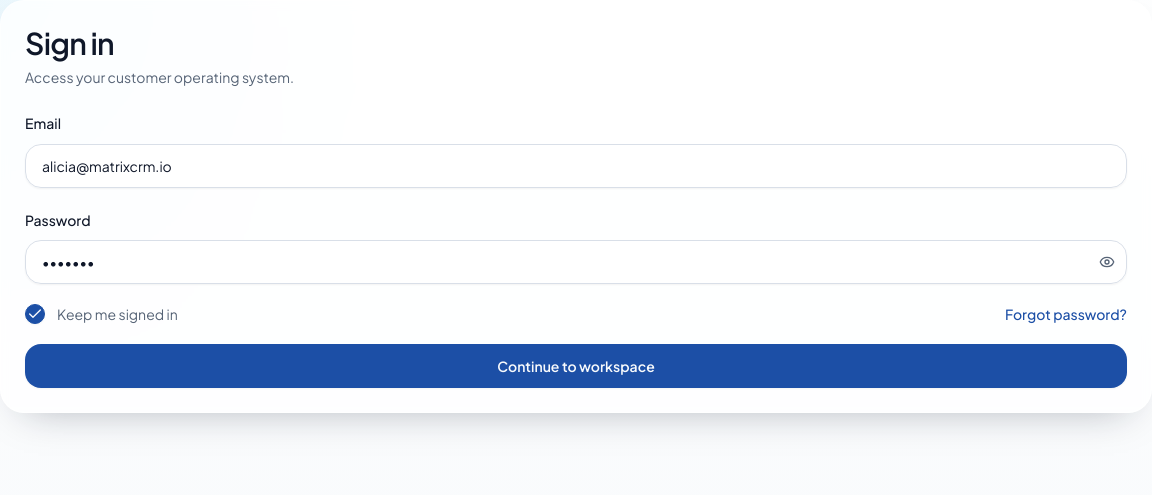
LoginForm › shows validation messages for invalid credentials
This screenshot has width=1152, height=495.
Replace the text in the field labelled "Email" with "invalid-email" at (576, 166), box 25,144 -> 1127,188
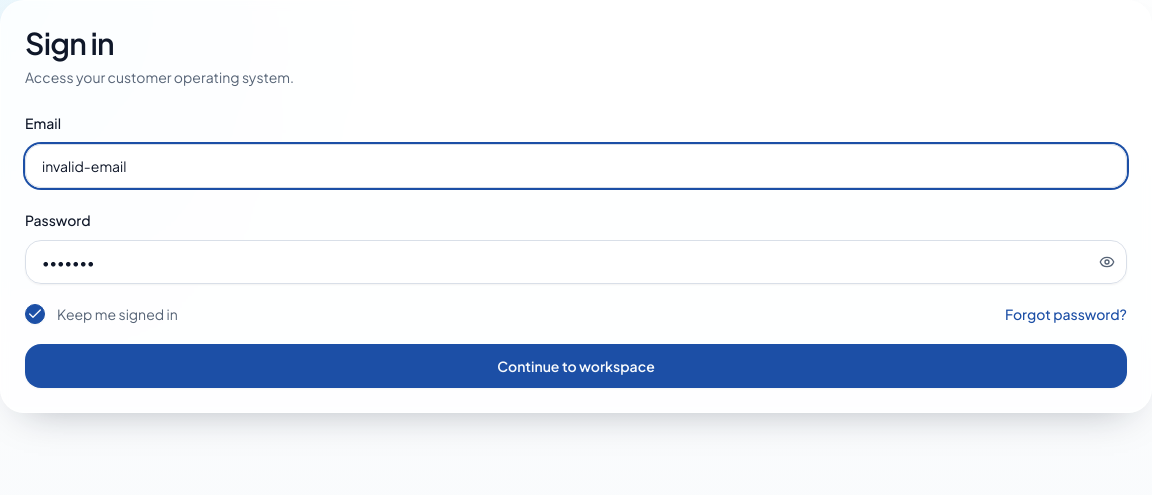
Type "123" into the password field labelled "Password" at (576, 262), box 25,240 -> 1127,284
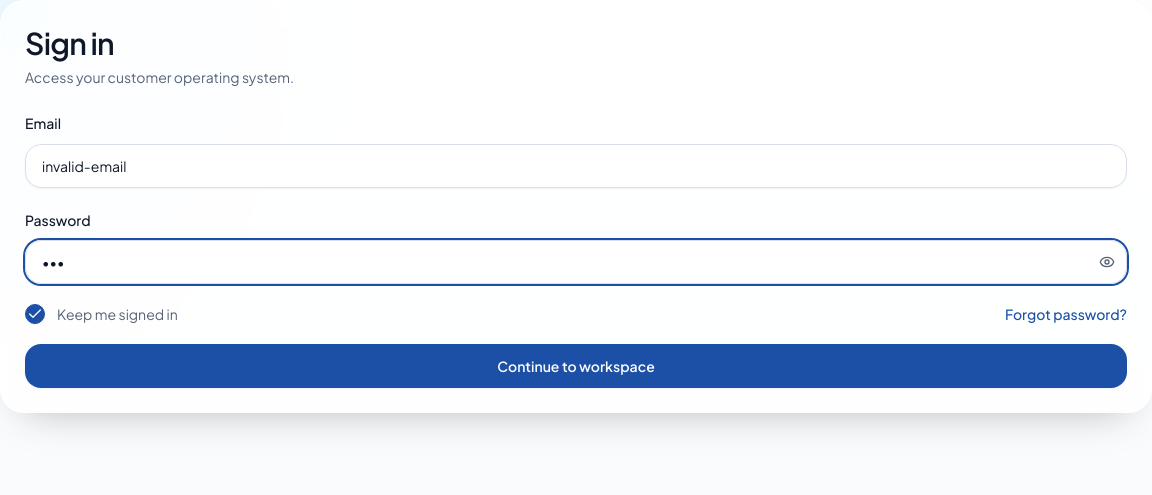
Click the button "Continue to workspace" at (576, 366), box 25,344 -> 1127,388
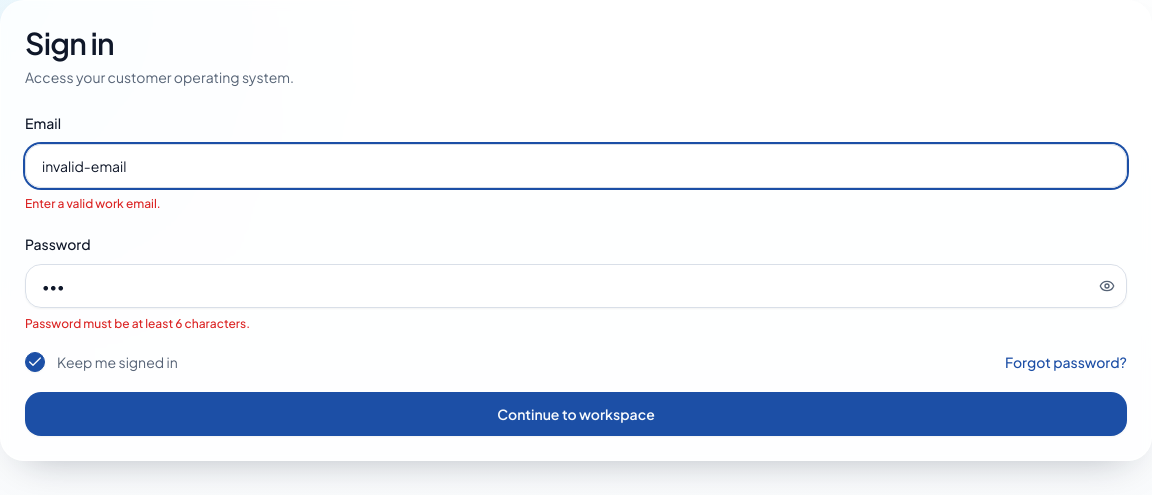
Check: the text "Enter a valid work email." is shown, box 25,196 -> 161,211
Check: the text "Password must be at least 6 characters." is shown, box 25,316 -> 250,331
